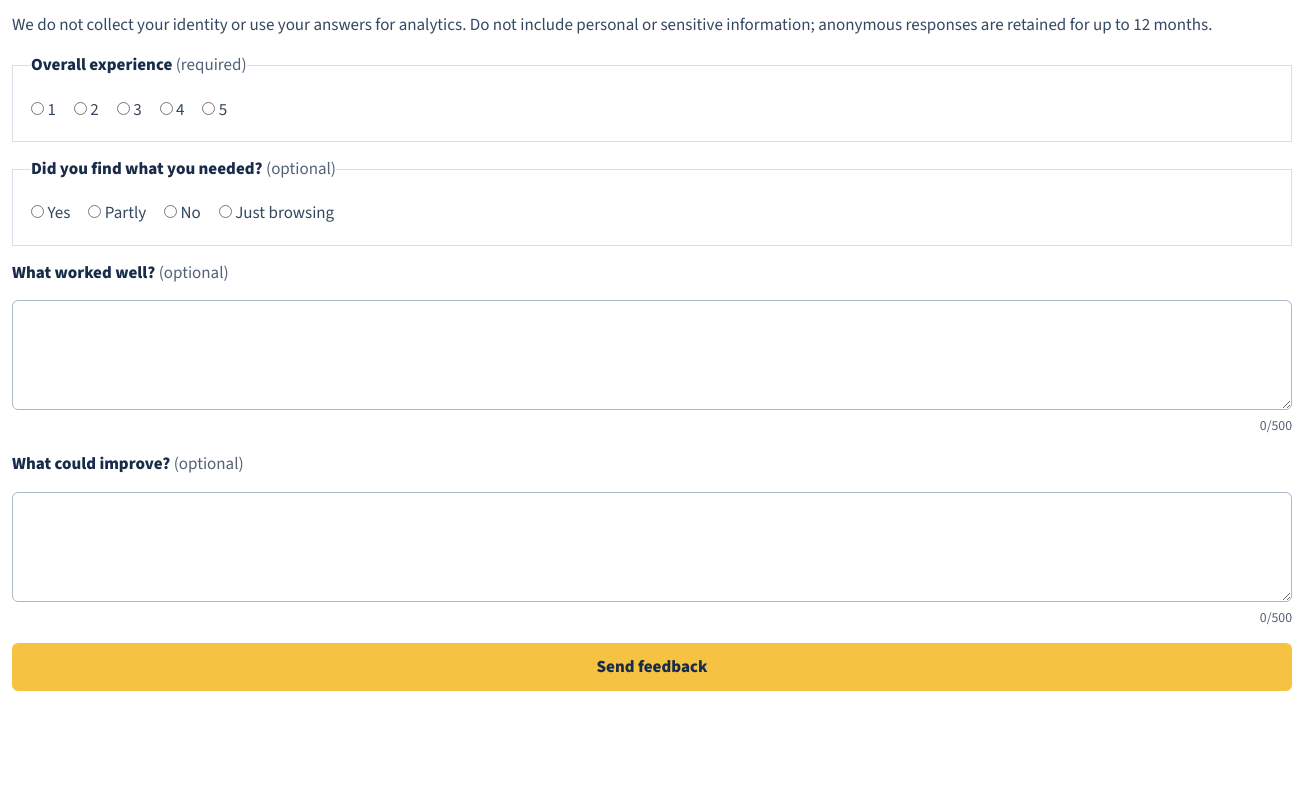
keeps values and exposes a friendly retry state after failure
The image size is (1304, 812).
Click the radio button labelled "5" at [209, 108], box [202, 102, 215, 115]
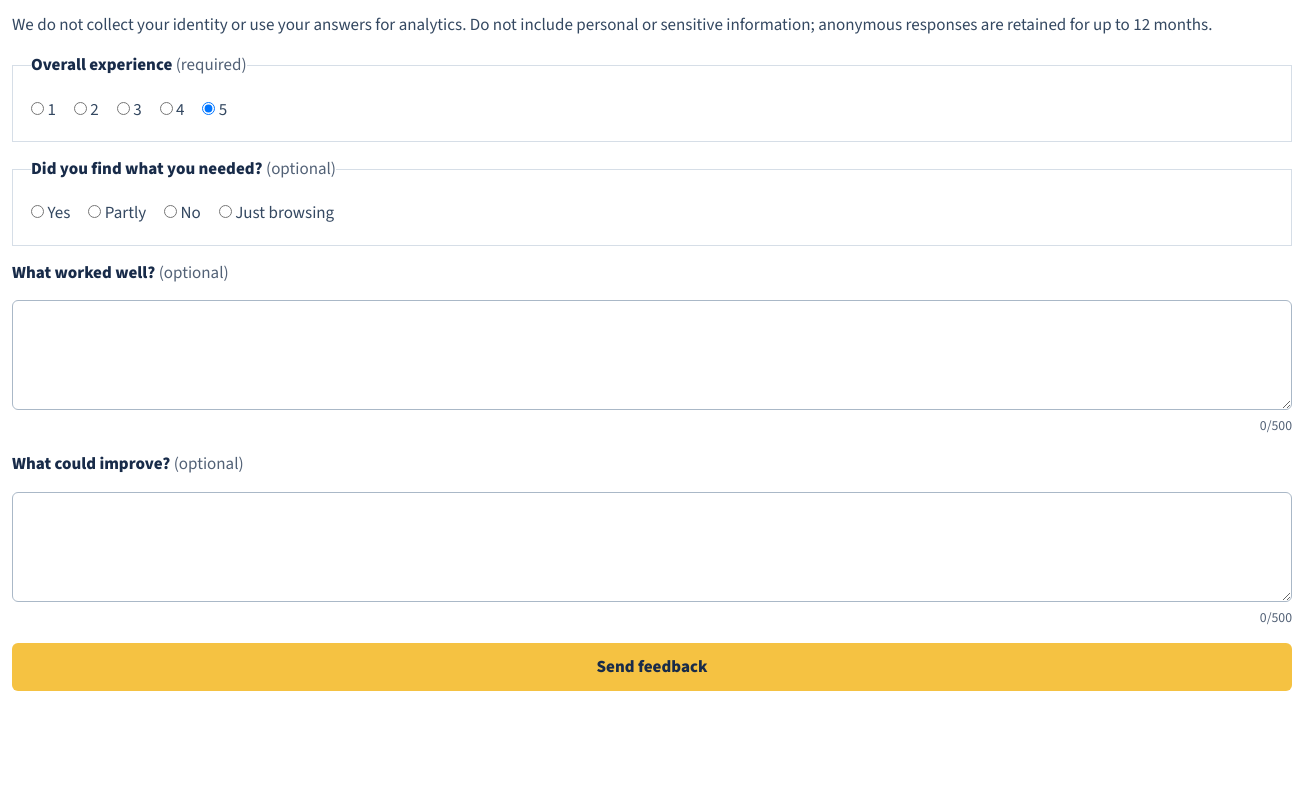
Type "More examples" into the text box labelled "What could improve? (optional)" at [652, 547], box [12, 492, 1292, 602]
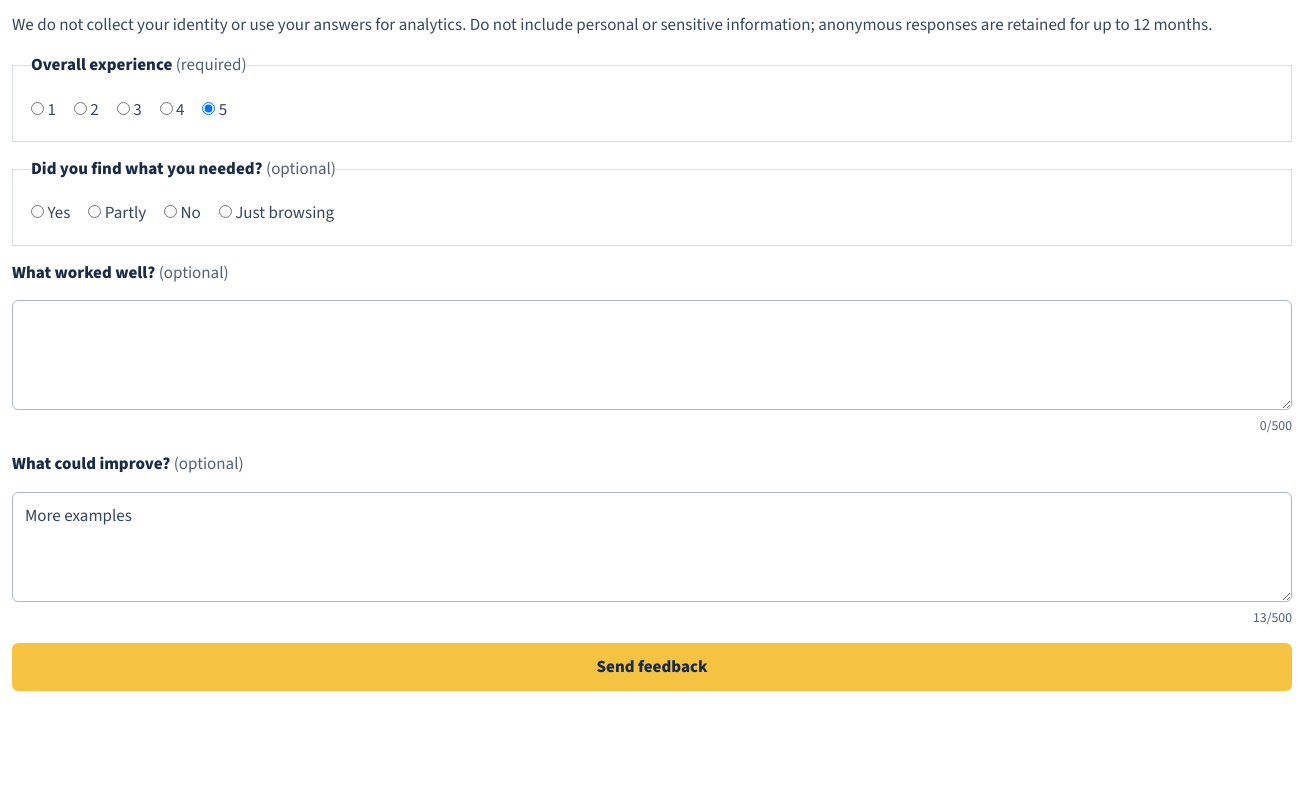
Click the button "Send feedback" at [652, 667], box [12, 643, 1292, 691]
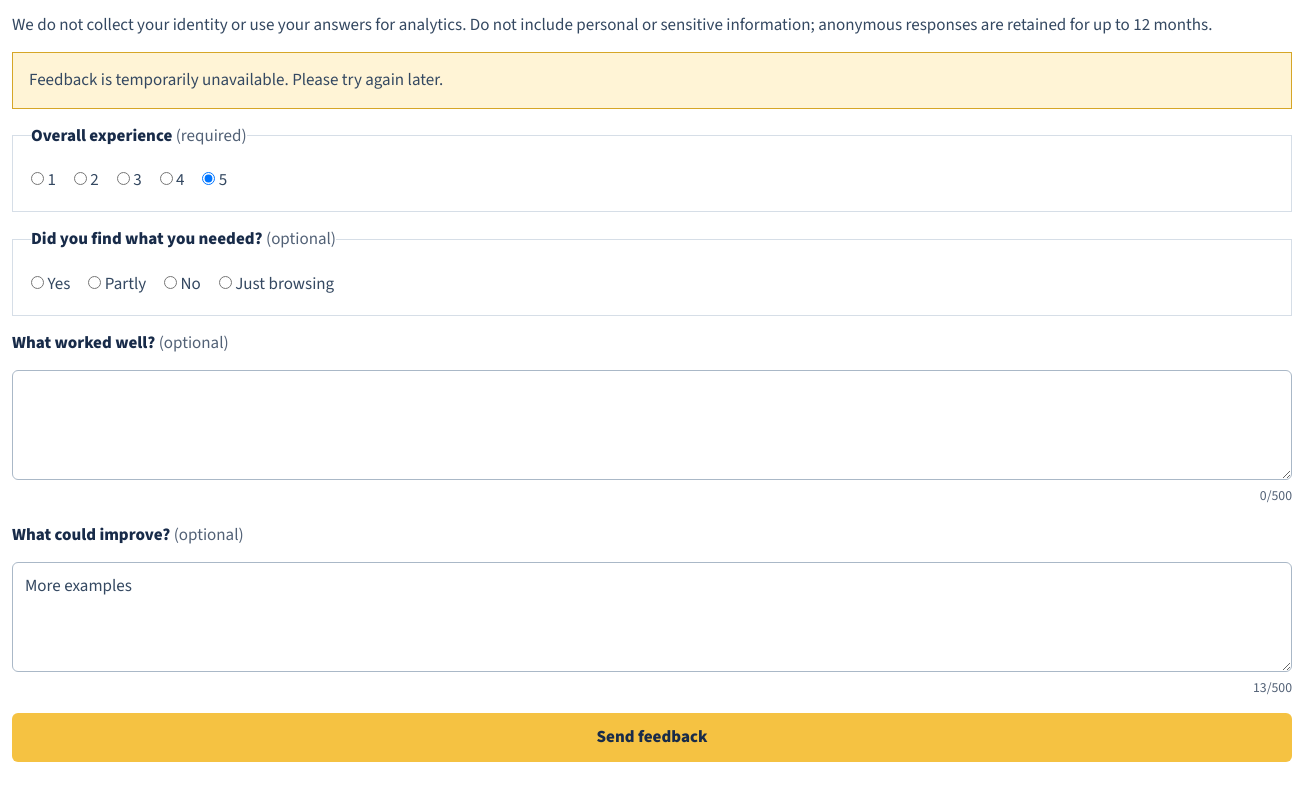
Check: the message shows "temporarily unavailable", box [29, 68, 443, 92]
